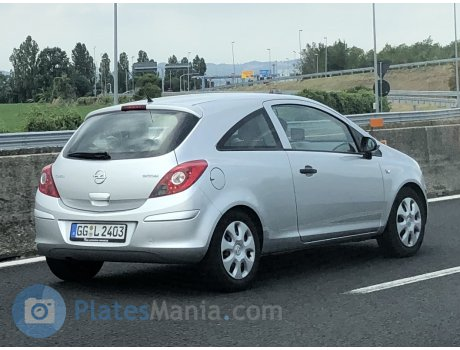License Plates: (72, 219, 122, 242)
